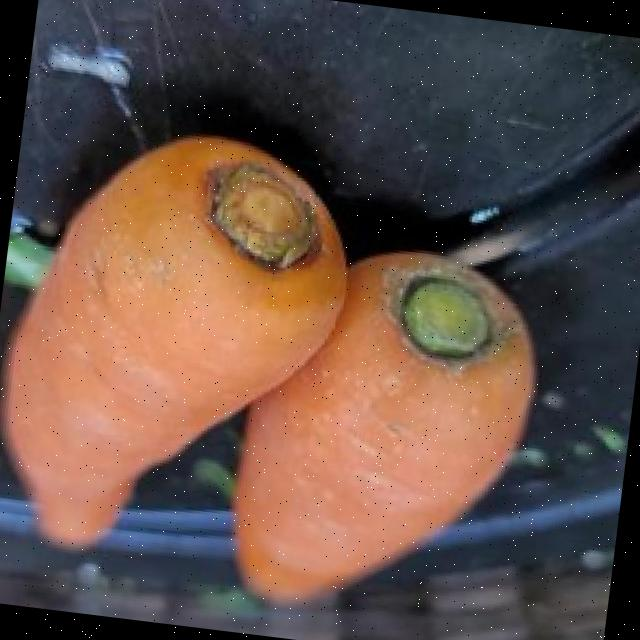carrot: (2, 136, 345, 544), (233, 251, 534, 600)
